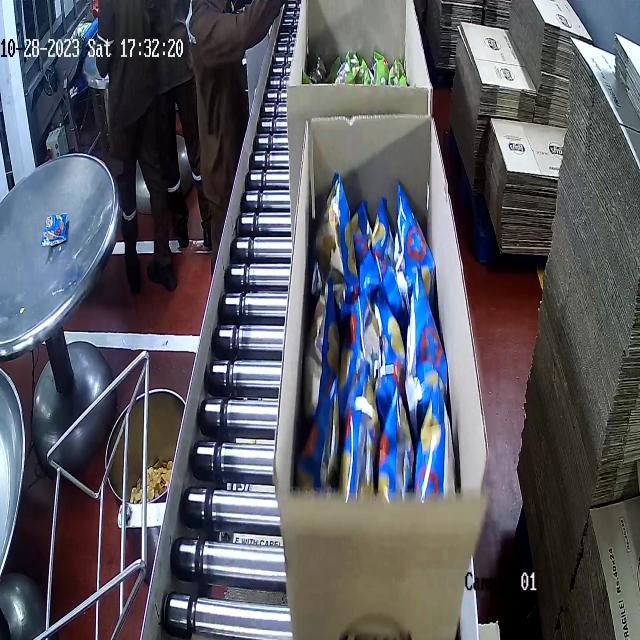PAPRIKA: (302, 184, 459, 490)
YOGURT_HERB: (305, 39, 411, 84)
